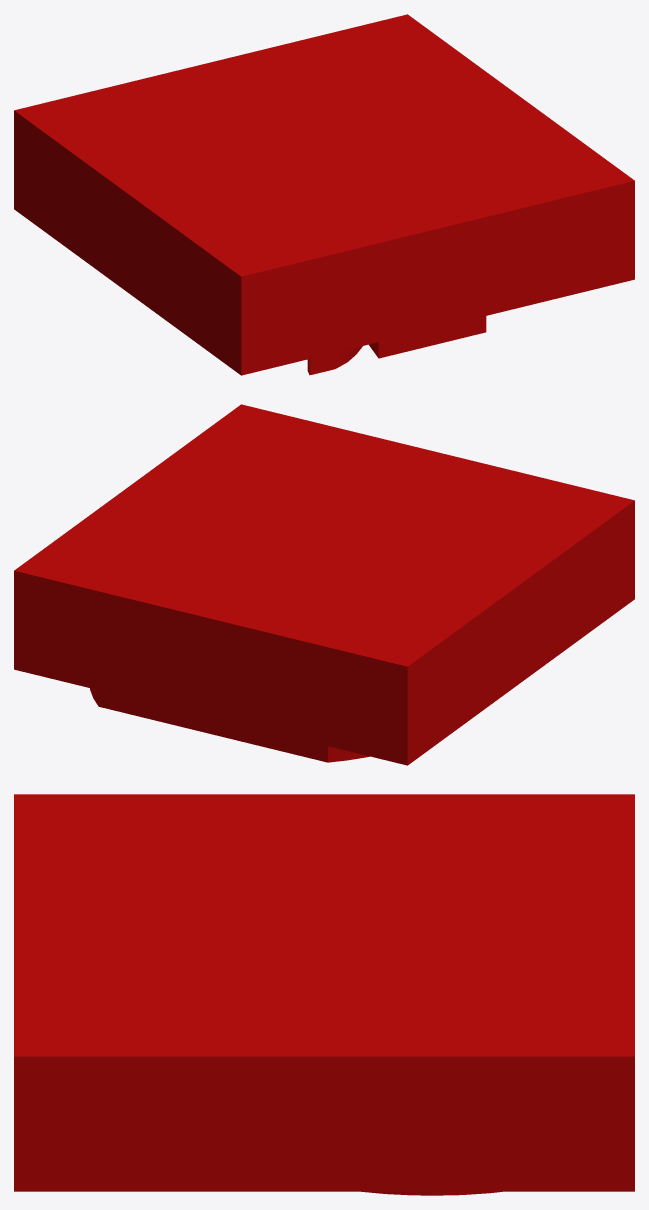
The model's file is finanzas.fbx.
3 renders of one model, top to bottom at view 1: azimuth 30°, elevation 25°; view 2: azimuth 150°, elevation 25°; view 3: azimuth 270°, elevation 25°, orthographic. The views are drawn at different scales.
Parts seen in each view (by area): view 1: Body1; view 2: Body1; view 3: Body1.
Part boxes in pixels (x1,y1,x2,y2): Body1: (14,14,634,375); Body1: (14,404,634,765); Body1: (14,794,634,1195).
Bounding box in the file's own units: 50 × 14 × 50.
